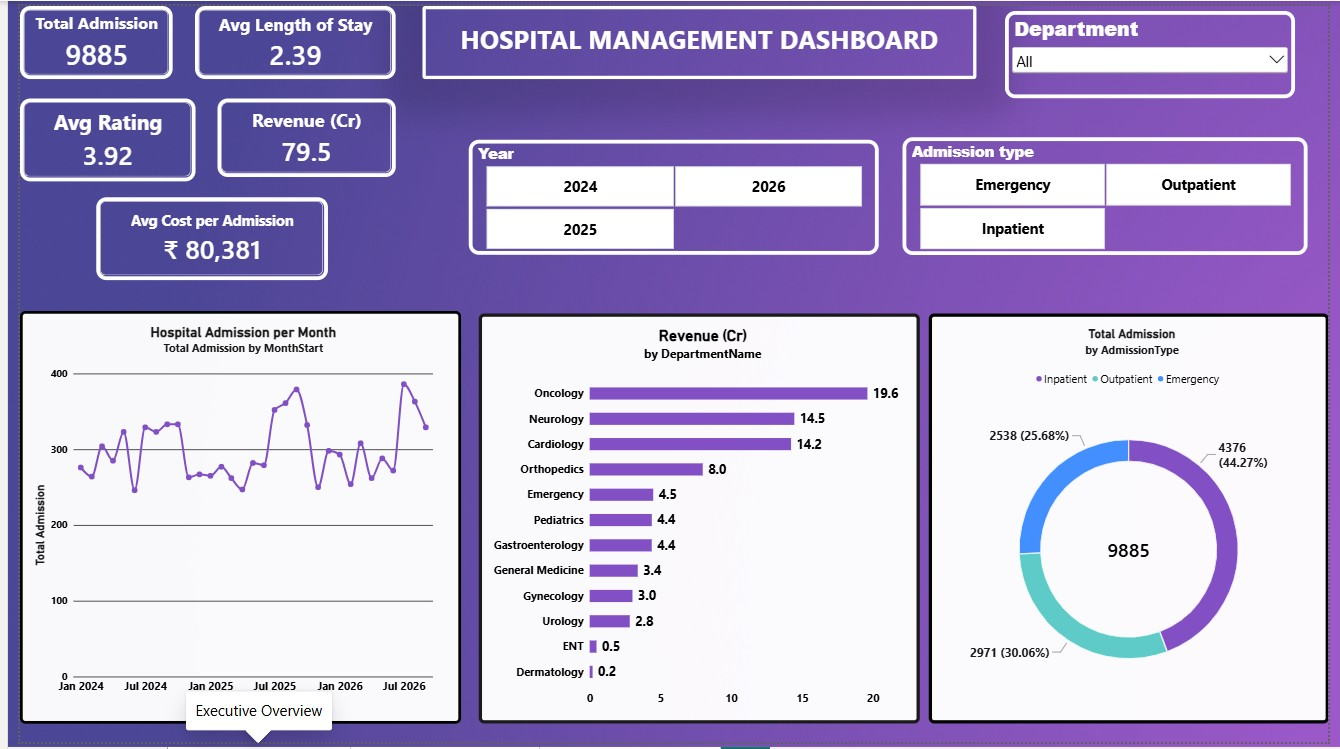

This screenshot's page, from the dashboard's own definition file:
{"tool":"powerbi","page":{"name":"Executive Overview","canvas":[1920,1080],"ordinal":0},"visuals":[{"type":"textbox","box":[590.7,0,813,107],"z":0},{"type":"cardVisual","fields":{"Data":["_Measures.Total Admission"]},"box":[0,0,224.4,107],"z":1000},{"type":"cardVisual","fields":{"Data":["_Measures.Revenue (Cr)"]},"box":[290.2,135.8,261.4,115.3],"z":2000},{"type":"cardVisual","fields":{"Data":["_Measures.Avg Cost per Admission"]},"box":[111.9,280.6,339.6,121.4],"z":3000},{"type":"cardVisual","fields":{"Data":["_Measures.Avg Length of Stay"]},"box":[257.3,0,294.3,107],"z":4000},{"type":"cardVisual","fields":{"Data":["_Measures.Avg Rating"]},"box":[0,135.8,257.3,121.4],"z":5000},{"type":"lineChart","title":"Hospital Admission per Month","fields":{"Category":["Datetable.MonthStart"],"Y":["_Measures.Total Admission"]},"box":[0,447.6,647.5,605.3],"z":6000},{"type":"barChart","fields":{"Category":["Departments.DepartmentName"],"Y":["_Measures.Revenue (Cr)"]},"box":[673.2,451.2,647.5,601.6],"z":7000},{"type":"donutChart","fields":{"Category":["Admissions.AdmissionType"],"Y":["_Measures.Total Admission"]},"box":[1333.5,451.2,587,601.6],"z":8000},{"type":"slicer","fields":{"Values":["Datetable.Year"]},"box":[658.5,196.3,601.6,168.8],"z":8001},{"type":"slicer","fields":{"Values":["Admissions.AdmissionType"]},"box":[1295,192.6,594.3,172.4],"z":8002},{"type":"slicer","fields":{"Values":["Departments.DepartmentName"]},"box":[1445.4,7.3,425.5,128.4],"z":8003}]}

Visuals, with their boxes in screenshot pixels (x1, y1, x2, y2), scaled from the page's 1920x1080 canvas onto the 1340x749 screenshot:
textbox: [412,0,980,74]
cardVisual - _Measures.Total Admission: [0,0,157,74]
cardVisual - _Measures.Revenue (Cr): [203,94,385,174]
cardVisual - _Measures.Avg Cost per Admission: [78,195,315,279]
cardVisual - _Measures.Avg Length of Stay: [180,0,385,74]
cardVisual - _Measures.Avg Rating: [0,94,180,178]
"Hospital Admission per Month" lineChart: [0,310,452,730]
barChart - Departments.DepartmentName x _Measures.Revenue (Cr): [470,313,922,730]
donutChart - Admissions.AdmissionType x _Measures.Total Admission: [931,313,1339,730]
slicer - Datetable.Year: [460,136,879,253]
slicer - Admissions.AdmissionType: [904,134,1319,253]
slicer - Departments.DepartmentName: [1009,5,1306,94]
